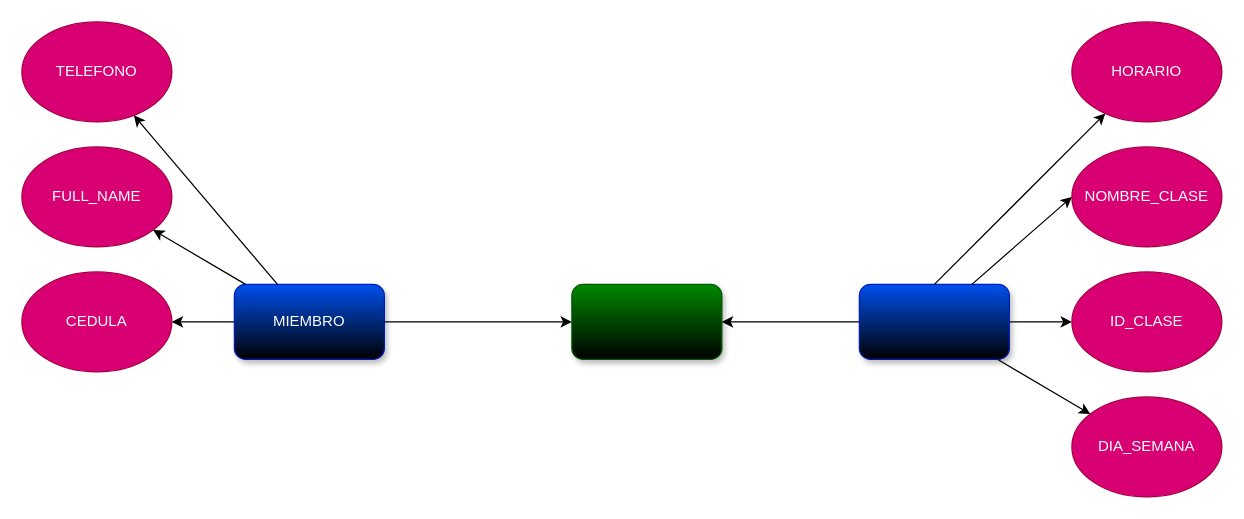
Some shapes in this 1244 by 519 pixel diagram are drawn without their labels. Each missing label, with the centre of its shape:
CLASE: [935,323]
INSCRIPCION: [647,323]
